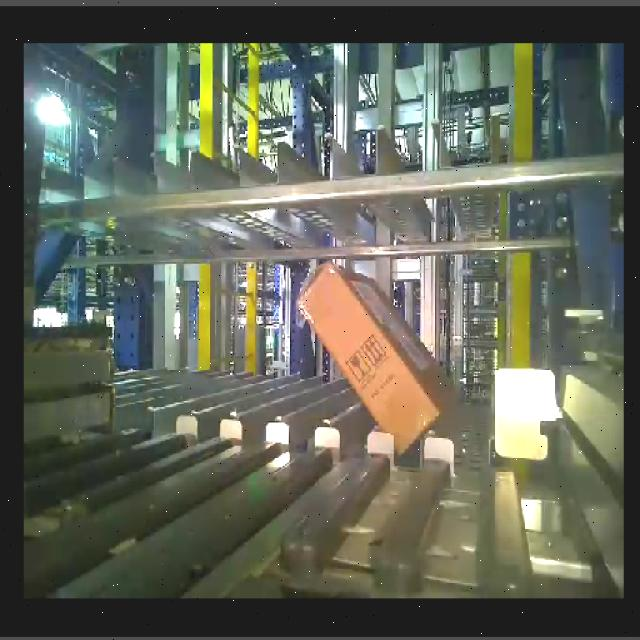box: (286, 262, 448, 457)
